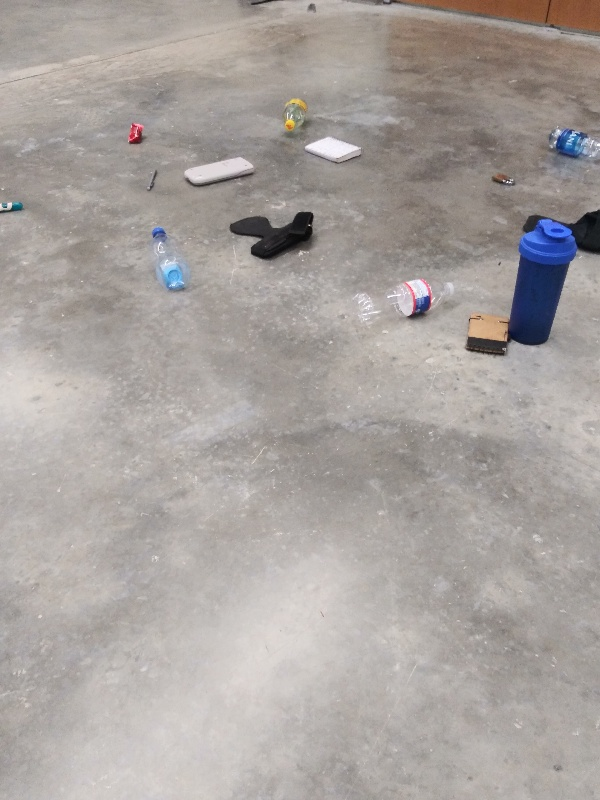bottle: (349, 271, 461, 332), (147, 224, 197, 297), (544, 120, 600, 166), (278, 92, 311, 140)
